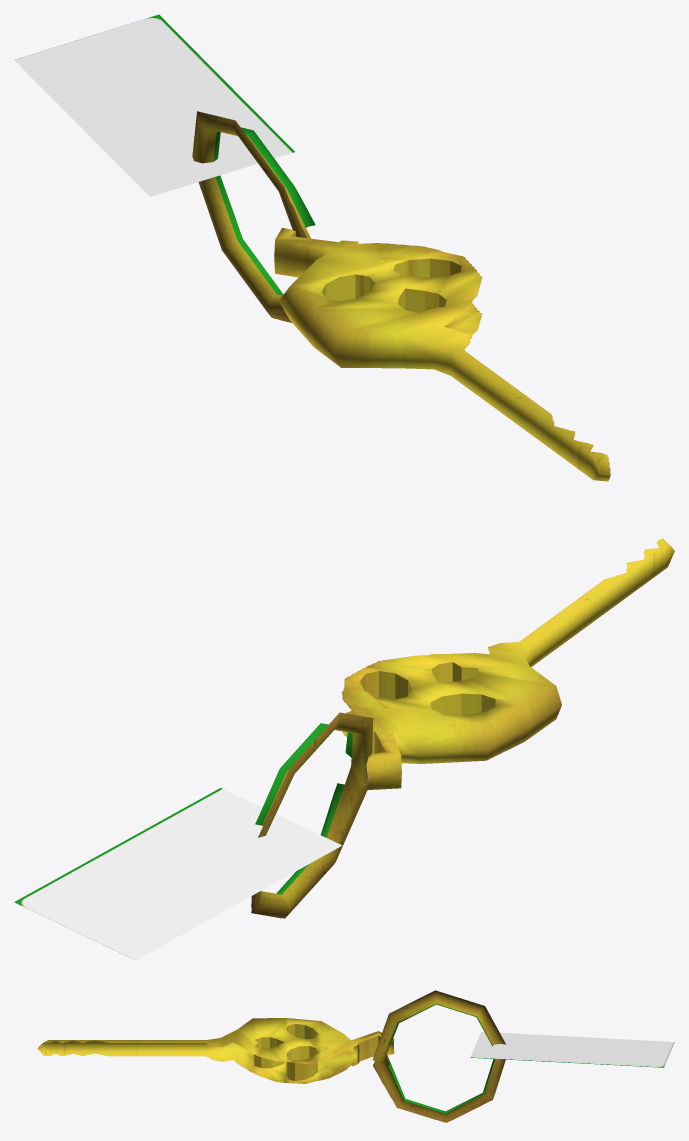
The model's file is SkeletonKey.fbx.
The picture shows the model from 3 angles, top to bottom: view 1: azimuth 30°, elevation 25°; view 2: azimuth 150°, elevation 25°; view 3: azimuth 270°, elevation 25°; orthographic projection. The views are drawn at different scales.
Visible parts, largest first — view 1: skelekey; view 2: skelekey; view 3: skelekey.
Part boxes in pixels (x1,y1,x2,y2): skelekey: (14,14,610,481); skelekey: (14,538,674,960); skelekey: (37,990,674,1122).
Bounding box in the file's own units: 6.23 × 6.7 × 32.21.
